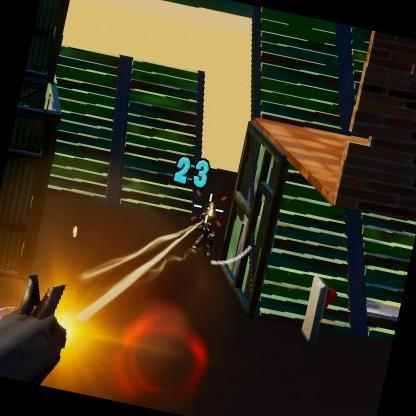person: (192, 200, 224, 257)
